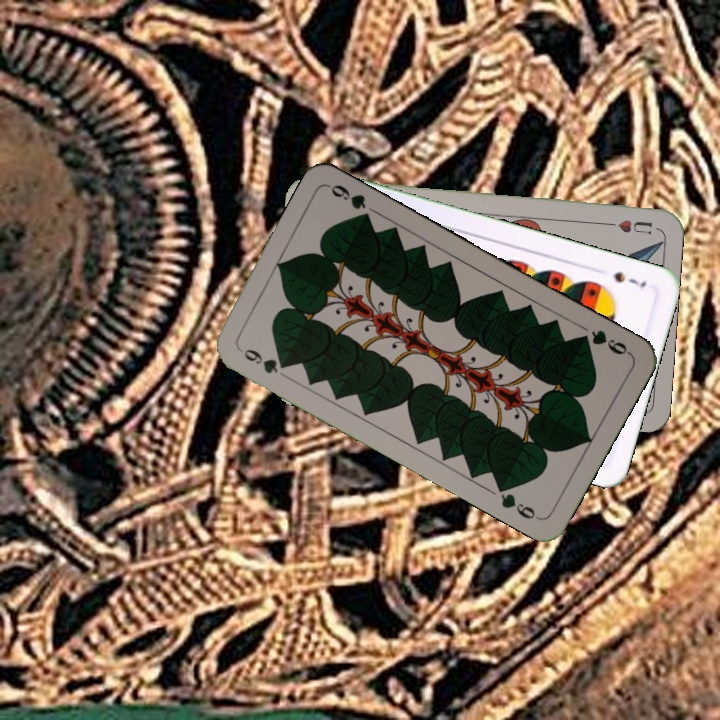G9: (574, 326, 633, 358), (235, 344, 292, 377)
HU: (599, 215, 655, 237)
S7: (609, 267, 649, 290)
